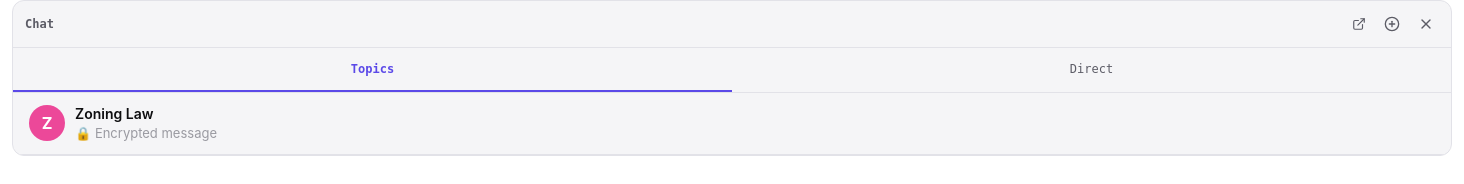
Test: mount-uniqueness guard › MOUNT-UNIQUE: a room matching the current standalone page never gets its own ChatPanel
Step 1. Click the button "Z Zoning Law 🔒 Encrypted message" → (47, 123), box [13,93,1451,154]
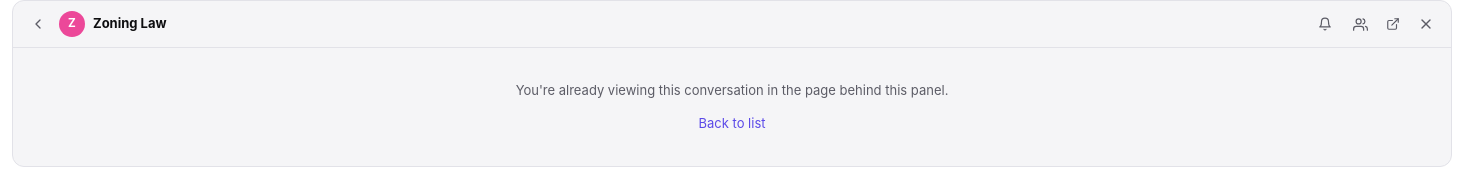
expect the text "already viewing this conversation" is shown: met, box [516,82,948,98]
